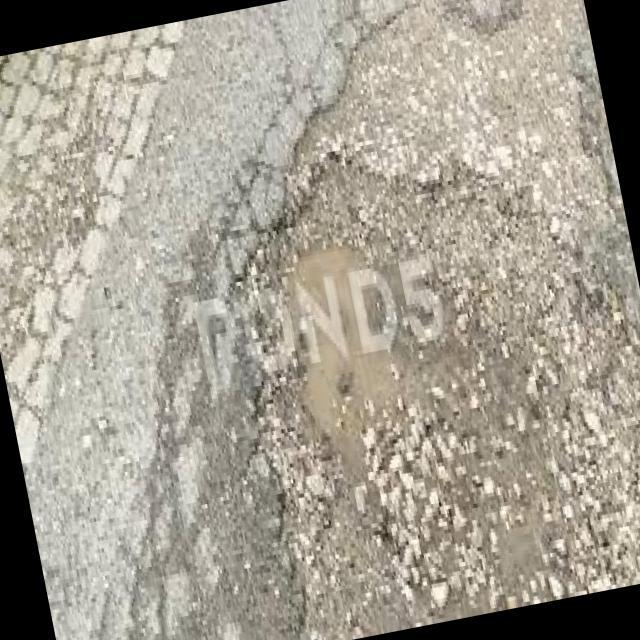Burst: (253, 169, 491, 611)
